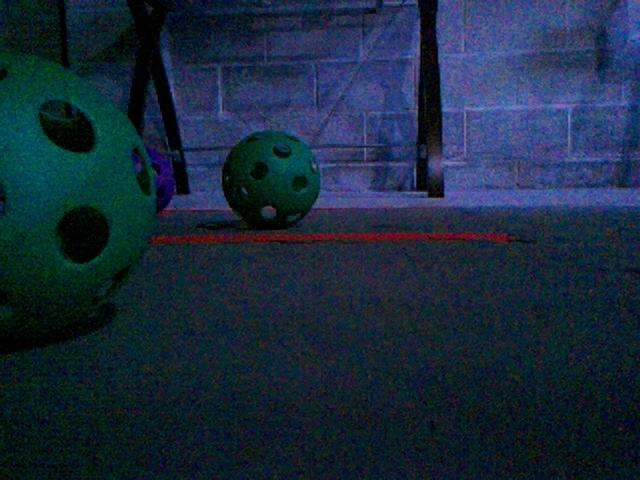Green: (219, 130, 321, 228)
Purple: (132, 143, 177, 214)
